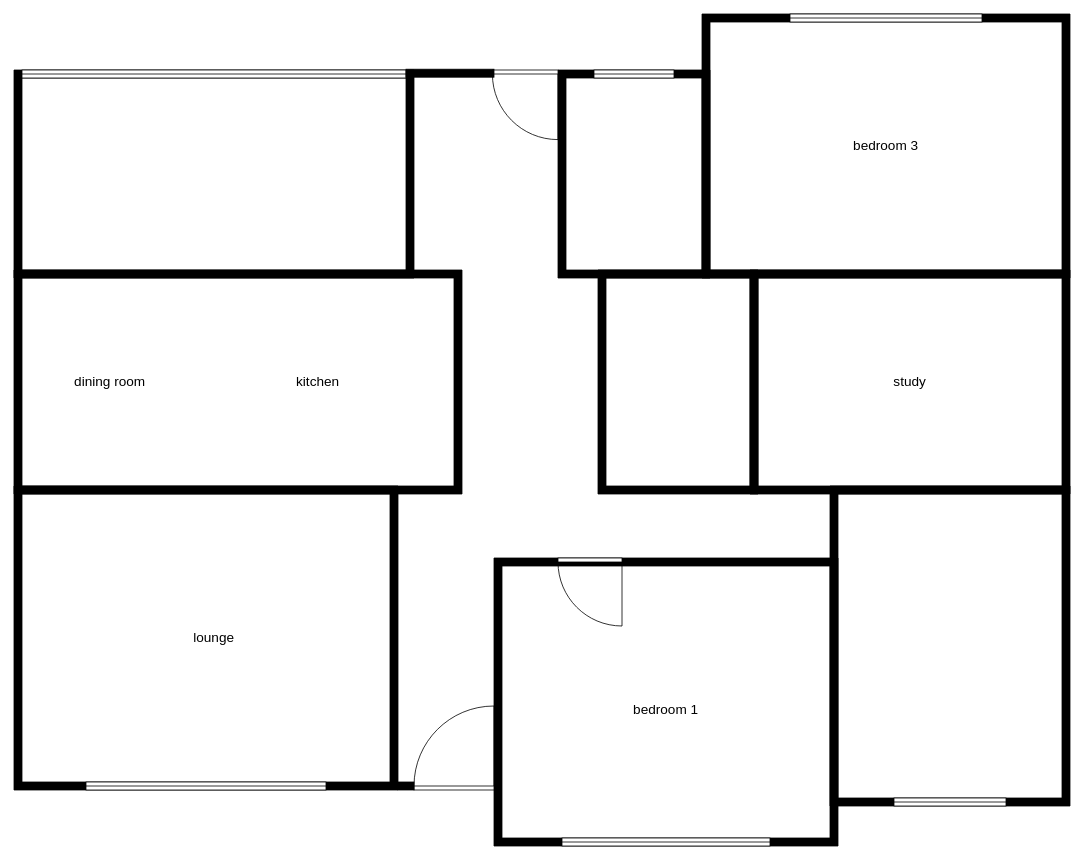
The diagram is 1084 pixels wide and 860 high, and some of its shapes have lost their labels. Here are the shapes that lost their labels. From the top down, the box of each, then its label:
(13, 69, 414, 278): family room
(829, 485, 1070, 806): bedroom 2
